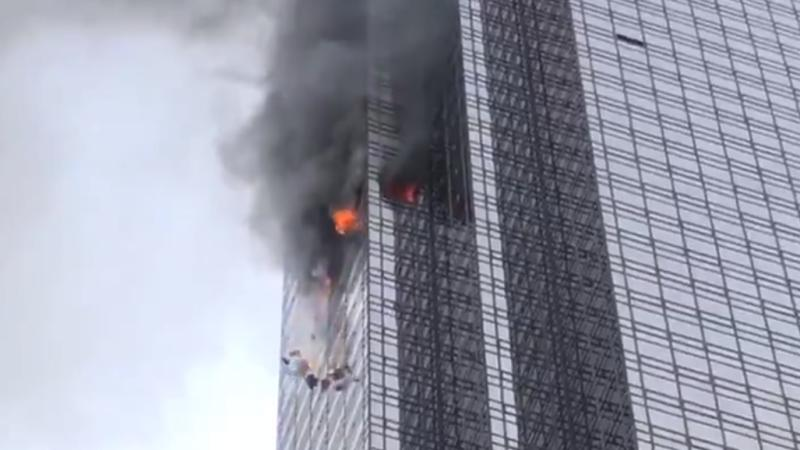Fire: (300, 165, 445, 256)
